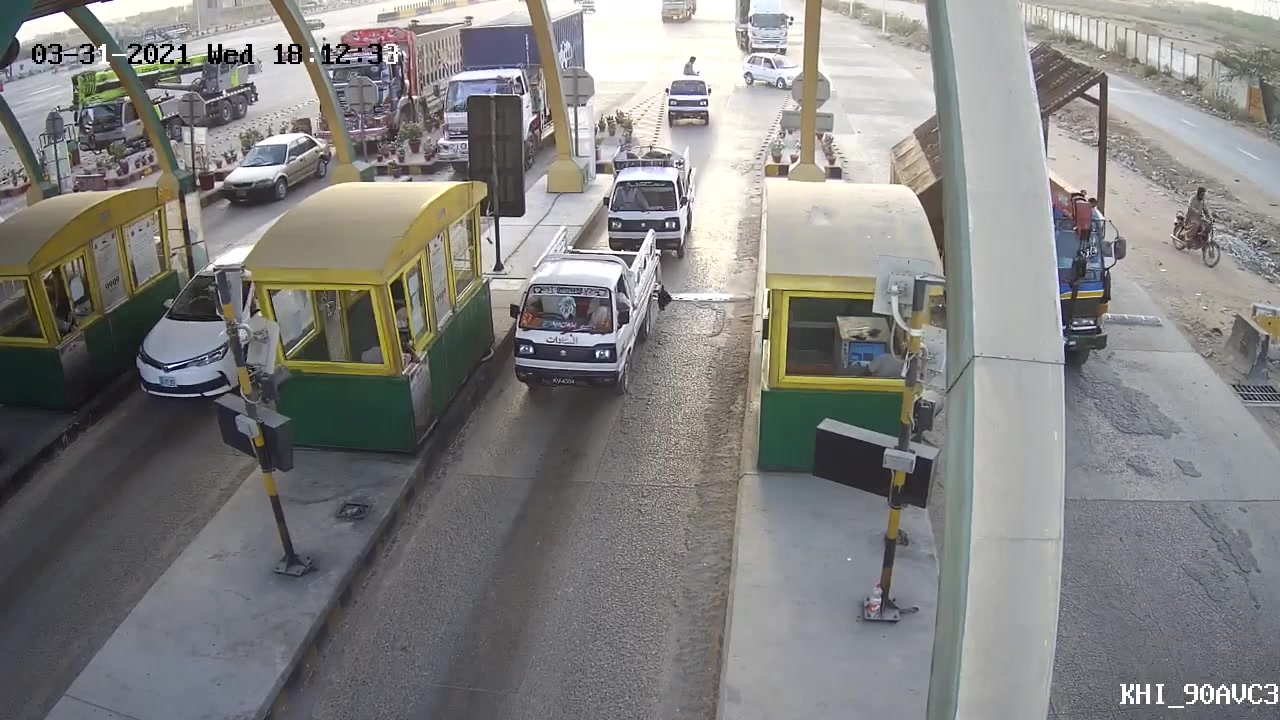F2: (501, 224, 672, 402)
